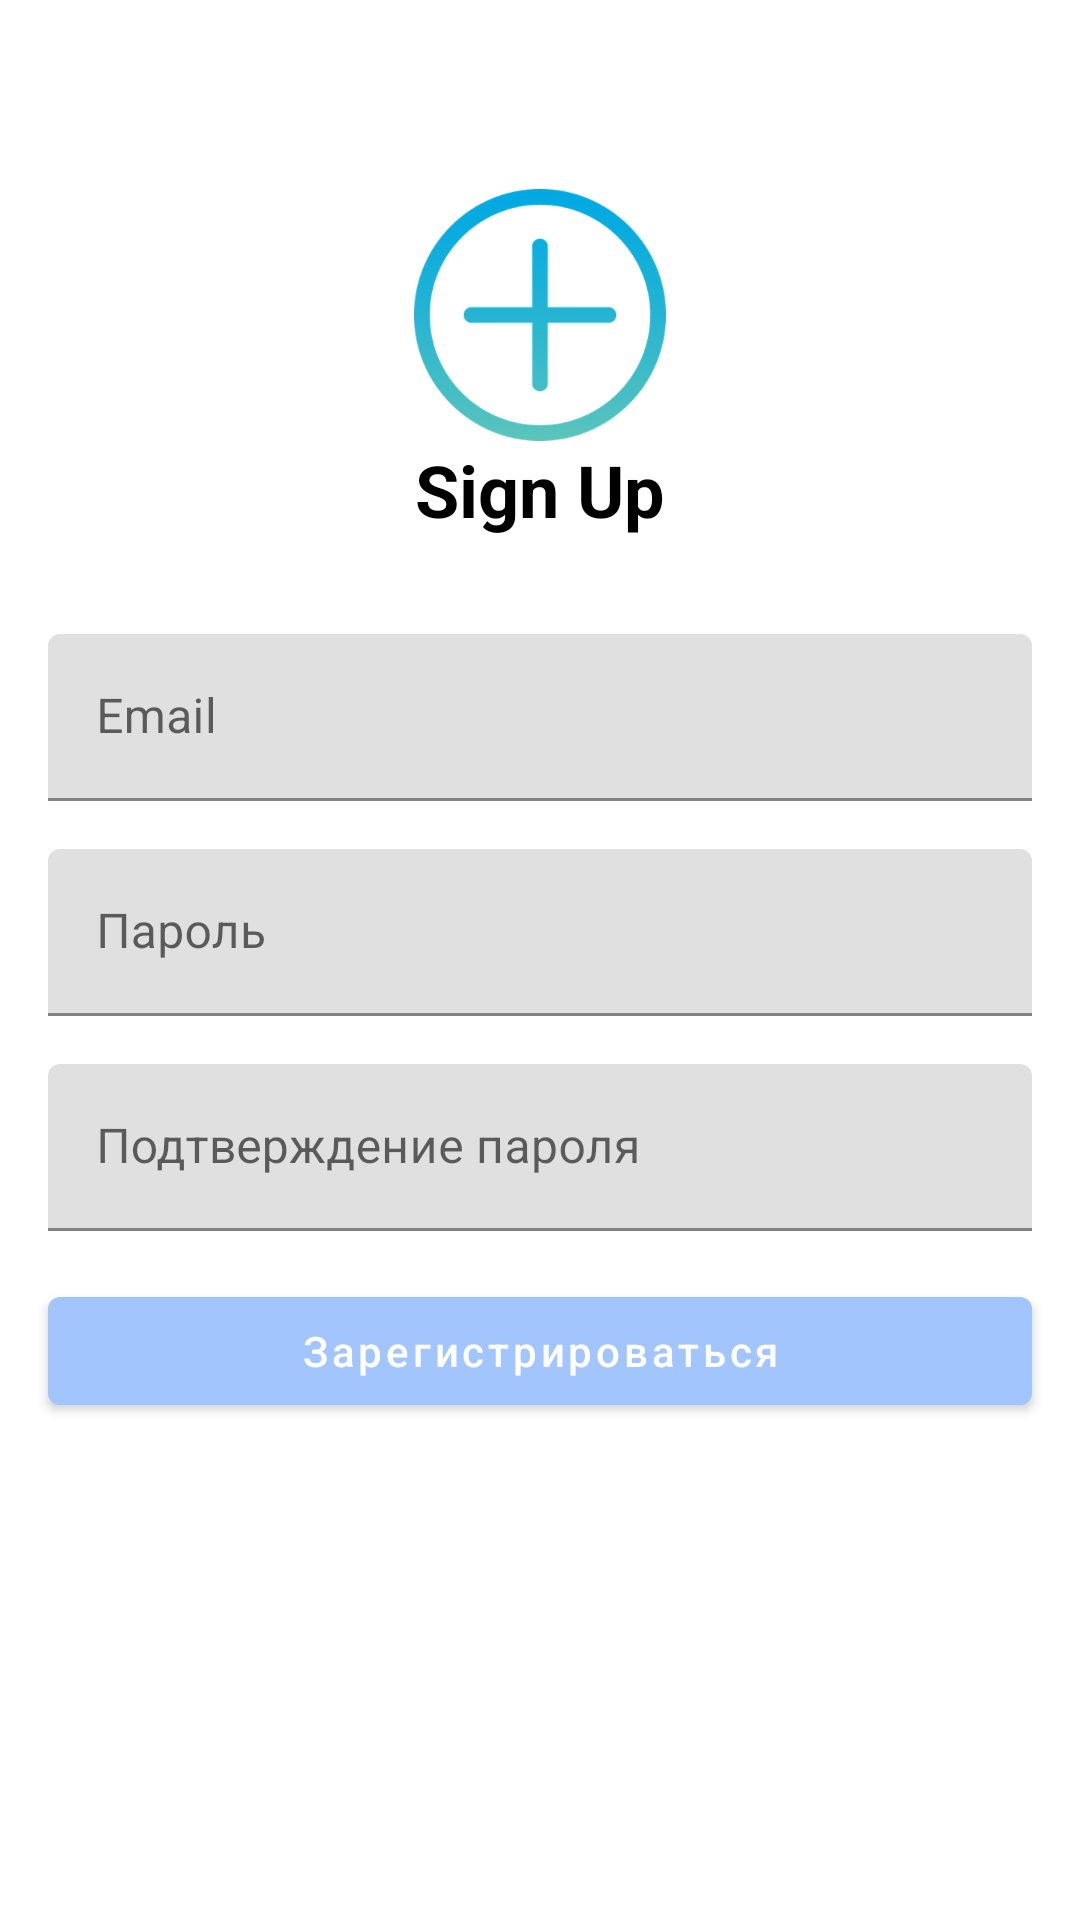

Icon click points for this 1080x1920 phone screenshot, format (x,y):
plus: (540,315)
